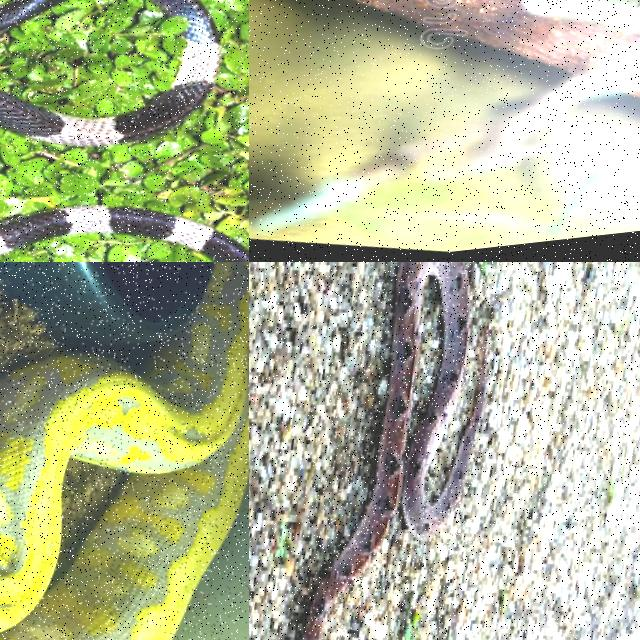Bungarus candidus: (0, 0, 218, 145)
Calloselasma rhodostoma: (304, 262, 487, 639)
Malayopython reticulatus: (0, 262, 248, 639)
Naja siamensis: (638, 0, 640, 0)
snake: (0, 262, 248, 639), (304, 262, 487, 639), (0, 0, 218, 145), (638, 0, 640, 0)
